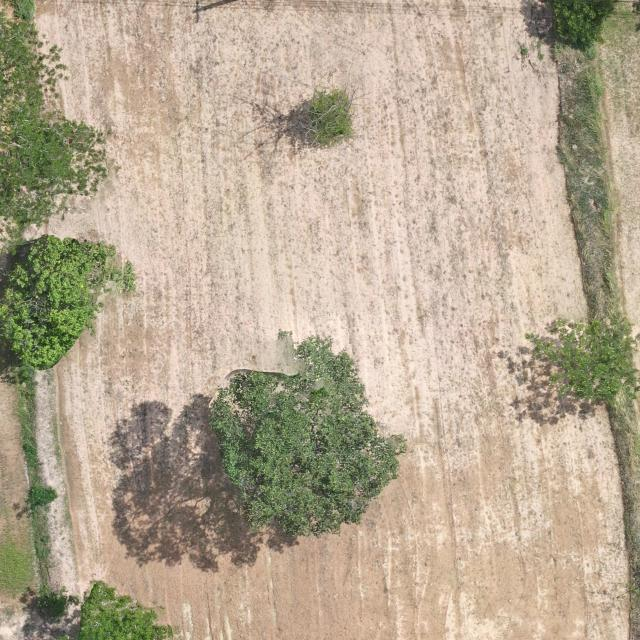Tree: (209, 328, 412, 540), (0, 234, 124, 370), (0, 113, 113, 228), (520, 311, 640, 413), (0, 8, 70, 118), (292, 62, 374, 150), (56, 579, 173, 640), (551, 0, 614, 51)
